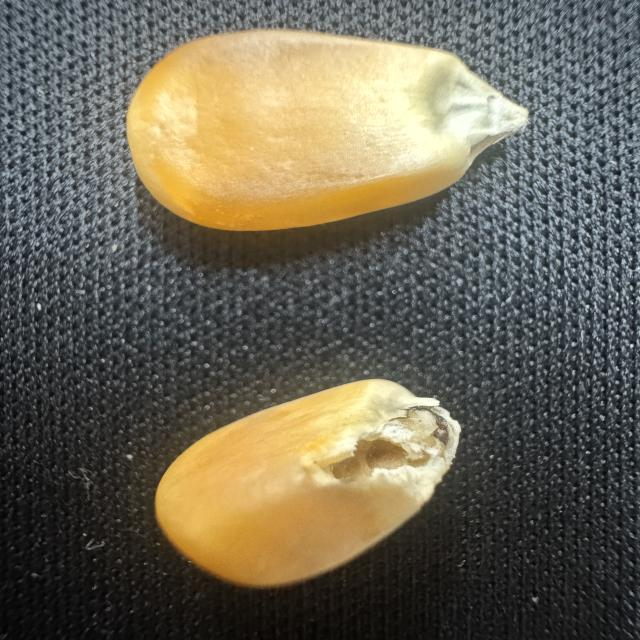Bad-Seed: (132, 373, 474, 593)
Good-Seed: (119, 19, 541, 250)
